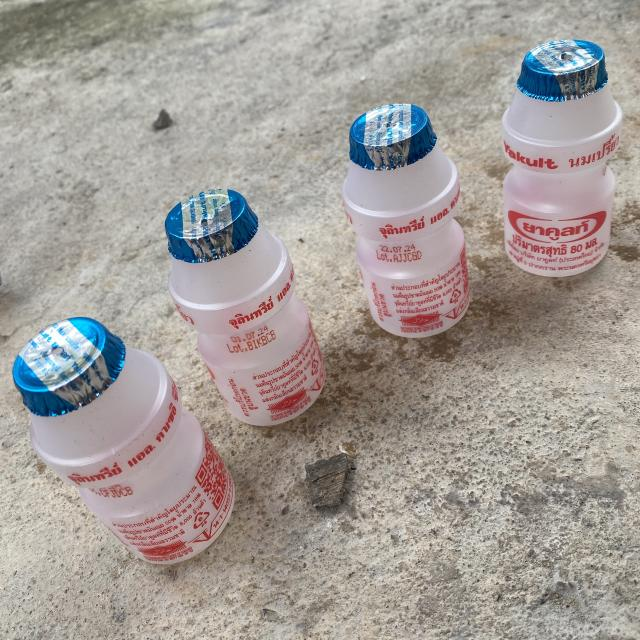Single-Use-Plastic: (12, 318, 234, 564), (165, 189, 325, 425), (341, 104, 470, 338), (502, 40, 622, 276)
